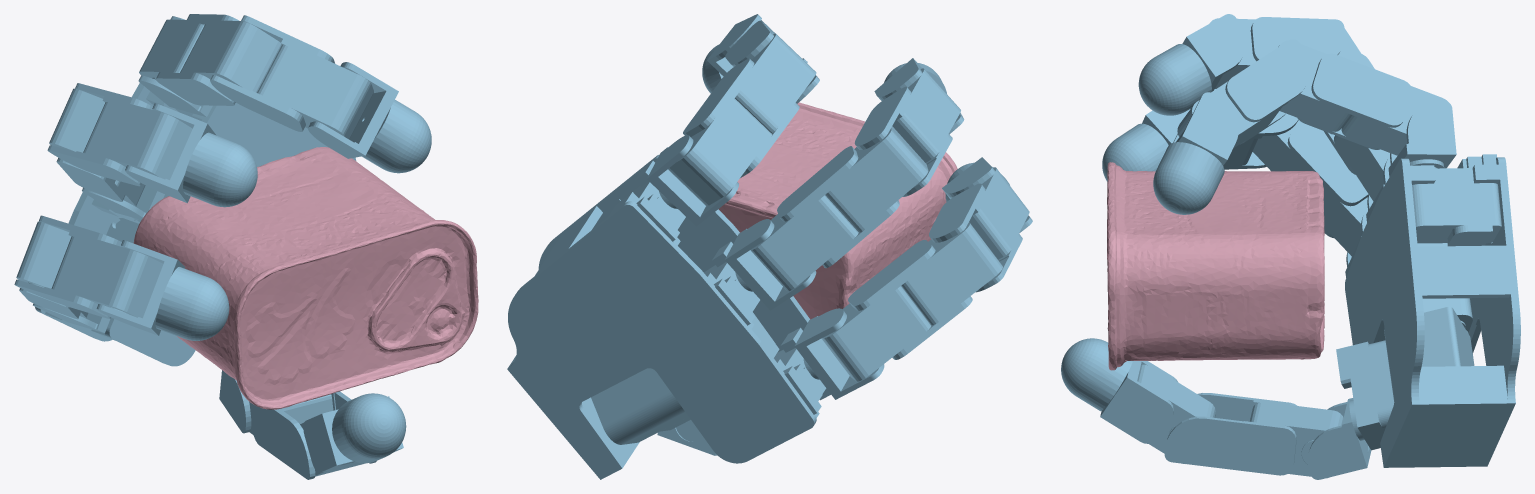
3 renders of one model, left to right at view 1: azimuth 30°, elevation 25°; view 2: azimuth 150°, elevation 25°; view 3: azimuth 270°, elevation 25°, orthographic. The views are drawn at different scales.
Visible parts, largest first — view 1: world, potted_meat_can.stl; view 2: world, potted_meat_can.stl; view 3: world, potted_meat_can.stl.
Boxes of the visible parts, x1,y1,x2,y2 form: world: [14, 14, 431, 479]; potted_meat_can.stl: [133, 147, 478, 409]; world: [507, 14, 1032, 479]; potted_meat_can.stl: [718, 102, 957, 319]; world: [1061, 14, 1520, 479]; potted_meat_can.stl: [1107, 162, 1324, 370].
Bounding box in the file's own units: 0.1751 × 0.1734 × 0.1763.
